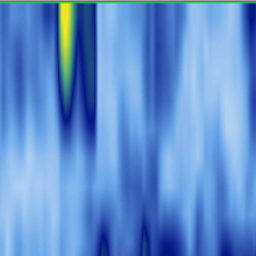defect: (144, 1, 181, 122), (54, 1, 78, 148), (78, 2, 98, 155), (132, 194, 152, 256), (91, 209, 115, 256), (155, 216, 181, 256), (13, 38, 27, 109), (217, 219, 236, 256), (195, 217, 203, 256)
